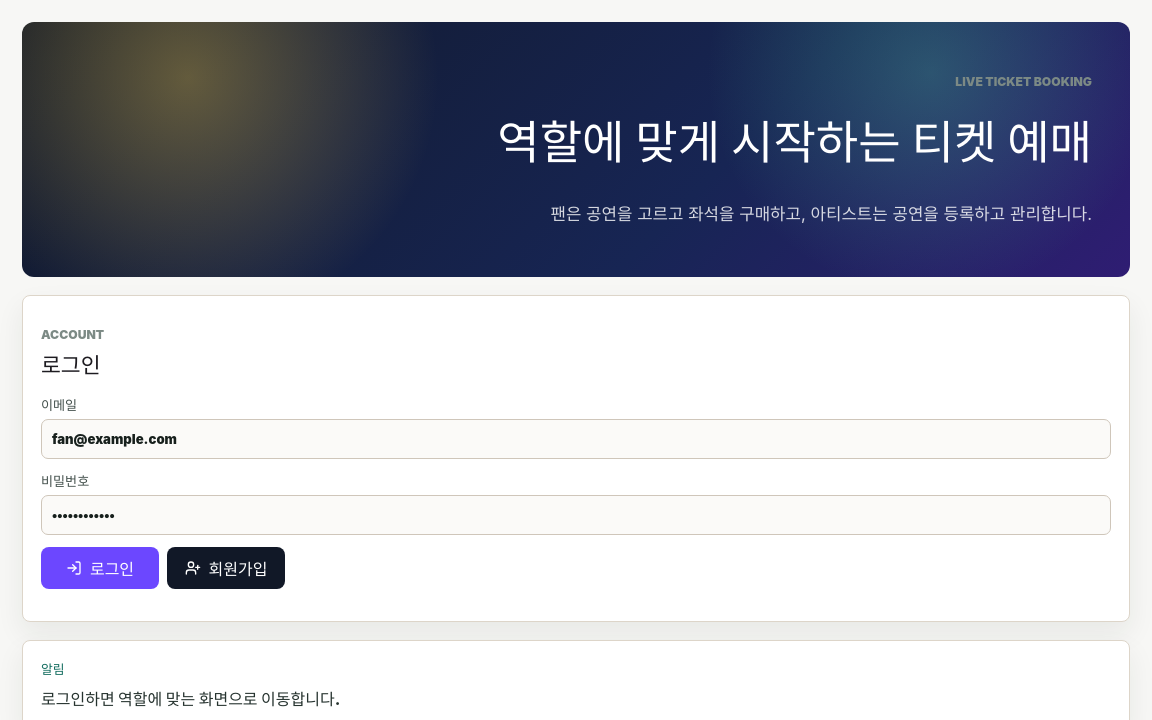
Test: Ticket frontend › routes ADMIN users to the pending page after login
Click the button "로그인".
click(100, 568)  # box [41,548,159,590]
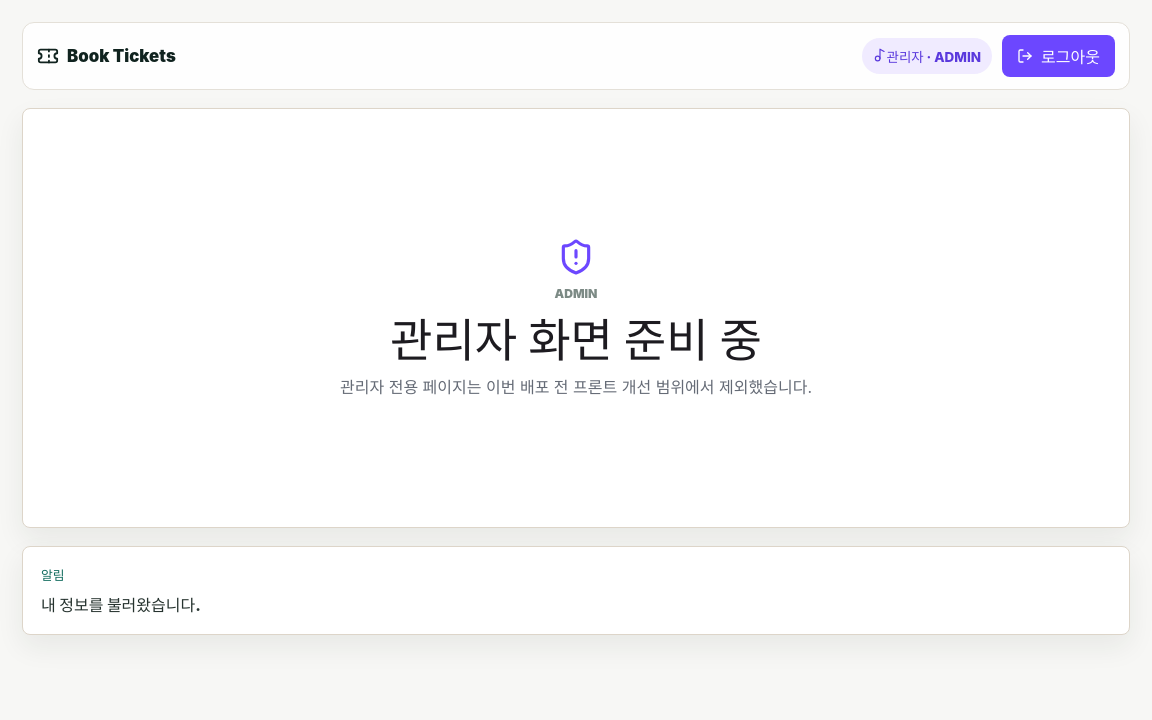
Check: the heading "관리자 화면 준비 중" is shown, box [390,317,762,364]
